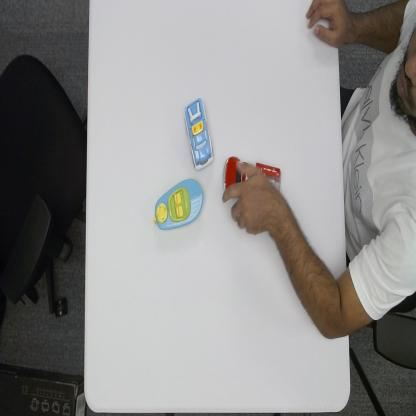Arm: (275, 193, 345, 338)
Boat: (152, 176, 205, 233)
Car: (183, 97, 214, 172)
Firetruck: (221, 155, 281, 194)
Hand: (222, 159, 274, 238), (303, 0, 339, 45)
